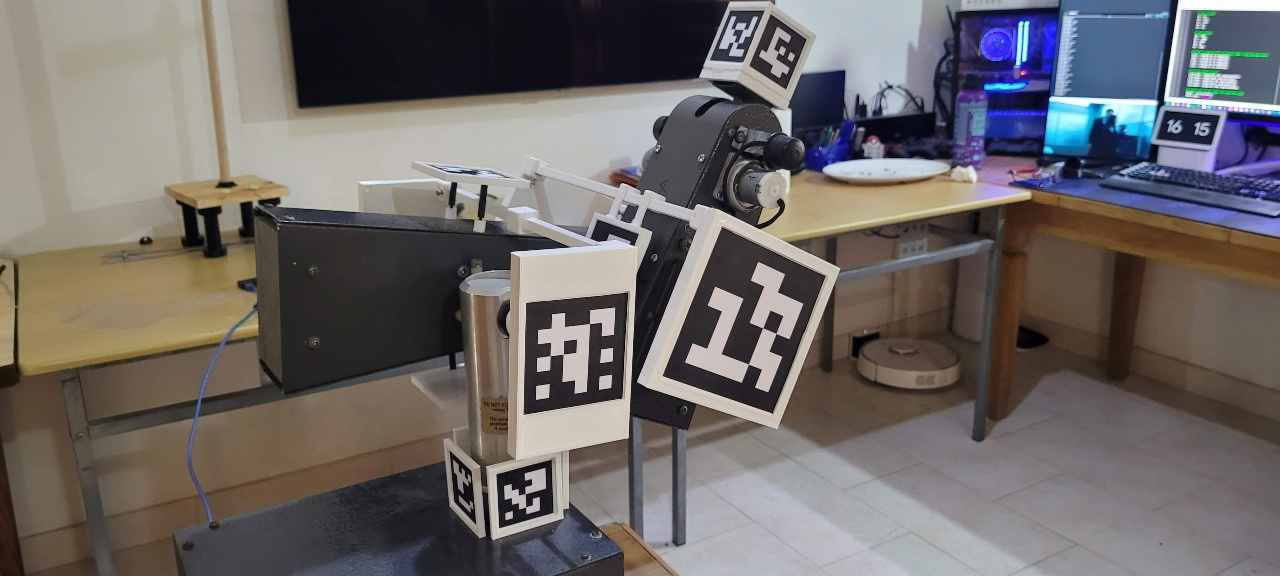Robot: (253, 2, 843, 540)
